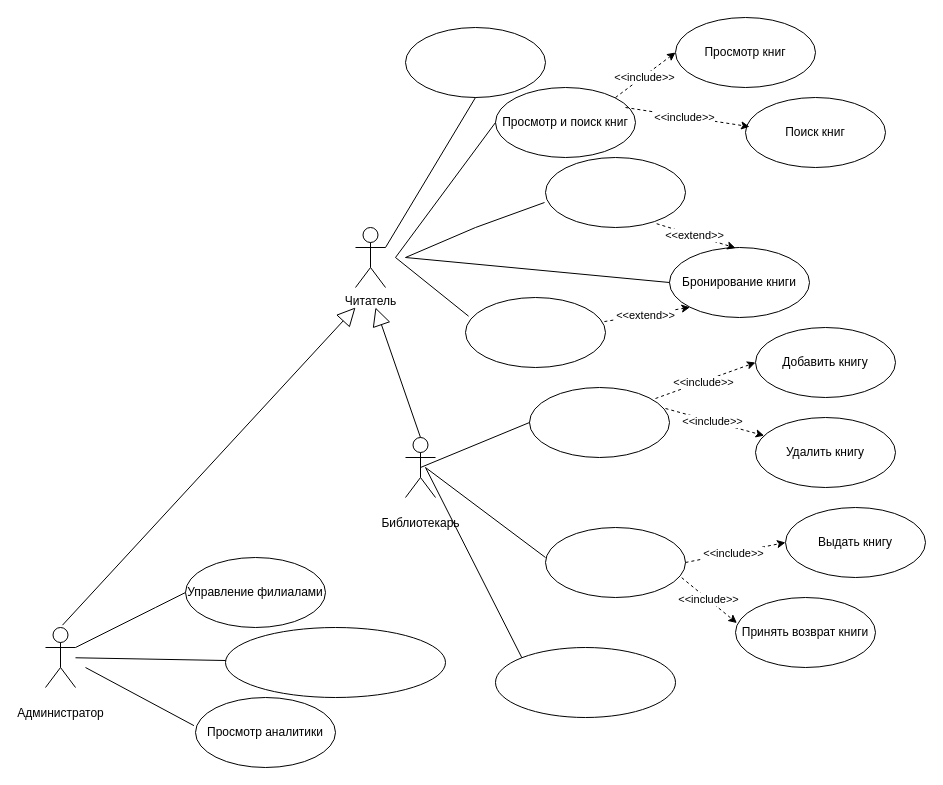
The diagram is 943 pixels wide and 785 high, and some of its shapes have lost their labels. Each missing label, with the box of its shape:
Выдача/возврат книг: (544, 526, 686, 598)
Отмена бронирования: (544, 156, 686, 228)
Просмотр истории бронирований: (464, 296, 606, 368)
Просмотр списка активных бронирований: (494, 646, 676, 718)
Регистрация пользователя: (404, 26, 546, 98)
Управление книгами: (528, 386, 670, 458)
Управление учетными записями пользователей и библиотекарей: (224, 626, 446, 698)
